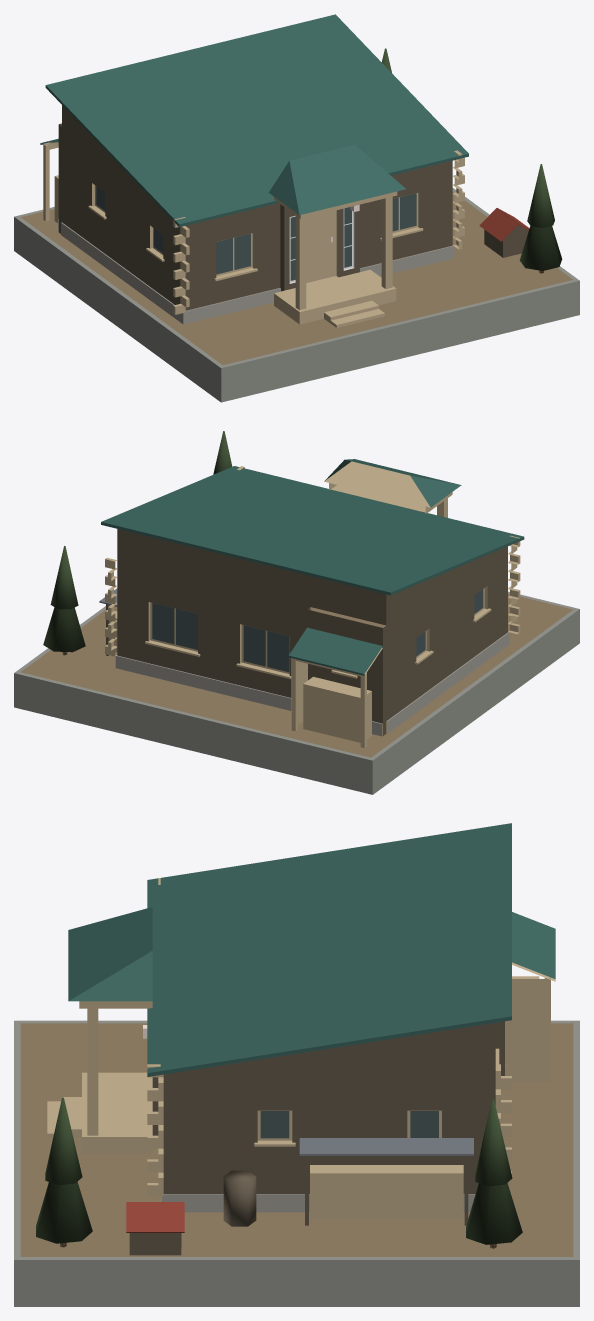
Rendered from site_hut3.fbx.
3 renders of one model, top to bottom at view 1: azimuth 30°, elevation 25°; view 2: azimuth 150°, elevation 25°; view 3: azimuth 270°, elevation 25°, orthographic. The views are drawn at different scales.
Visible parts, largest first — view 1: a2015.site_hut3; view 2: a2015.site_hut3; view 3: a2015.site_hut3.
Part boxes in pixels (box(x1,y1,x2,y2)): a2015.site_hut3: box(14, 14, 579, 402); a2015.site_hut3: box(14, 431, 579, 794); a2015.site_hut3: box(14, 823, 579, 1306).
Bounding box in the file's own units: 10.4 × 5.05 × 10.4.
